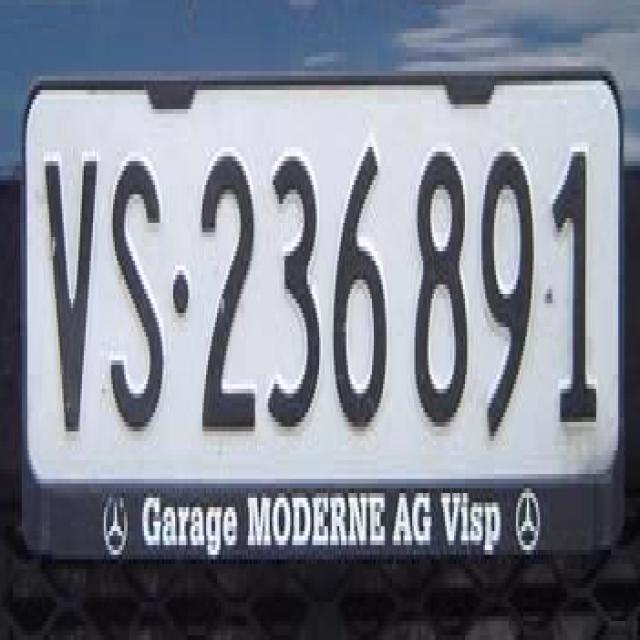Autre: (25, 84, 626, 542)
